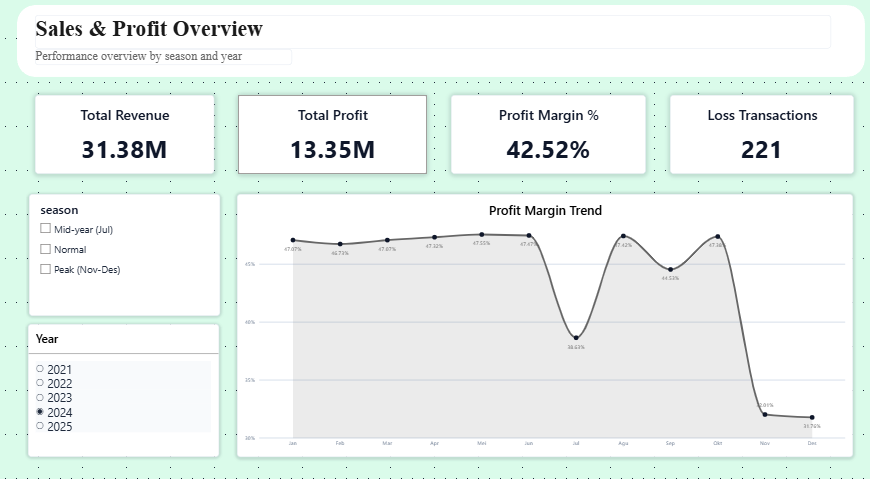

The page's visual inventory and layout, read from the dashboard file:
{"tool":"powerbi","page":{"name":"Overview","canvas":[1920,1080],"ordinal":0},"visuals":[{"type":"shape","box":[50.2,24,1850.2,157.1],"z":0},{"type":"textbox","box":[90,46.7,1736.7,73.3],"z":1000},{"type":"card","title":"Total Revenue","fields":{"Values":["orders_prepped.Total Revenue"]},"box":[89.5,220.4,390.5,172.4],"z":2000},{"type":"card","title":"Total Profit","fields":{"Values":["orders_prepped.Total Profit"]},"box":[532.4,220.4,412.4,172.4],"z":3000},{"type":"card","title":"Profit Margin %","fields":{"Values":["orders_prepped.Profit Margin %"]},"box":[997.1,220.4,425.5,172.4],"z":4000},{"type":"card","title":"Loss Transactions","fields":{"Values":["orders_prepped.Loss Transactions"]},"box":[1474.9,220.4,401.5,172.4],"z":5000},{"type":"textbox","box":[89.5,120,560.7,34.9],"z":6000},{"type":"lineChart","title":"Profit Margin Trend","fields":{"Category":["orders_prepped.Month Name"],"Y":["orders_prepped.Profit Margin %"]},"box":[530.2,436.4,1344,573.8],"z":7000},{"type":"slicer","fields":{"Values":["orders_prepped.season"]},"box":[76.4,436.4,416.7,266.2],"z":8000},{"type":"listSlicer","fields":{"Values":["orders_prepped.order_date.Variation.Date Hierarchy.Year"]},"box":[74.2,720,416.7,290.2],"z":9000}]}

Visuals, with their boxes in screenshot pixels (x1, y1, x2, y2), scaled from the page's 1920x1080 canvas onto the 870x479 screenshot:
shape: l=23, t=11, r=861, b=80
textbox: l=41, t=21, r=828, b=53
"Total Revenue" card: l=41, t=98, r=218, b=174
"Total Profit" card: l=241, t=98, r=428, b=174
"Profit Margin %" card: l=452, t=98, r=645, b=174
"Loss Transactions" card: l=668, t=98, r=850, b=174
textbox: l=41, t=53, r=295, b=69
"Profit Margin Trend" lineChart: l=240, t=194, r=849, b=448
slicer - orders_prepped.season: l=35, t=194, r=223, b=312
listSlicer - orders_prepped.order_date.Variation.Date Hierarchy.Year: l=34, t=319, r=222, b=448
